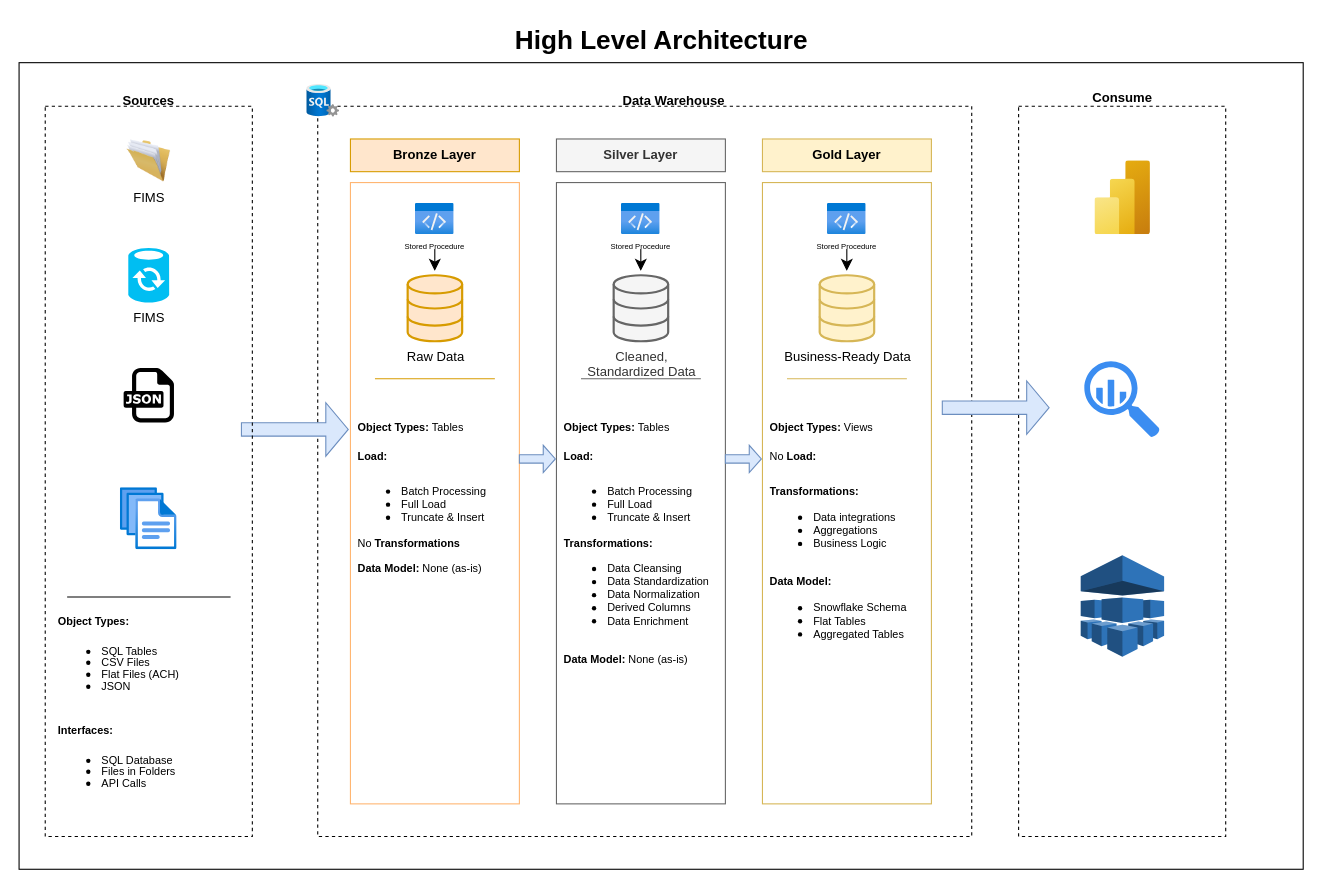
Image size: 1323x888. Some labels were removed from this diagram. Here are the shapes that lost their labels. From the top down, the centre of each, then its label:
At point (1122, 197): "BI & Reporting".
At point (148, 394): "Smart Simple".
At point (1121, 399): "Ad-Hoc SQL Queries".
At point (148, 518): "External AdHoc".
At point (1122, 605): "Machine Learning".
